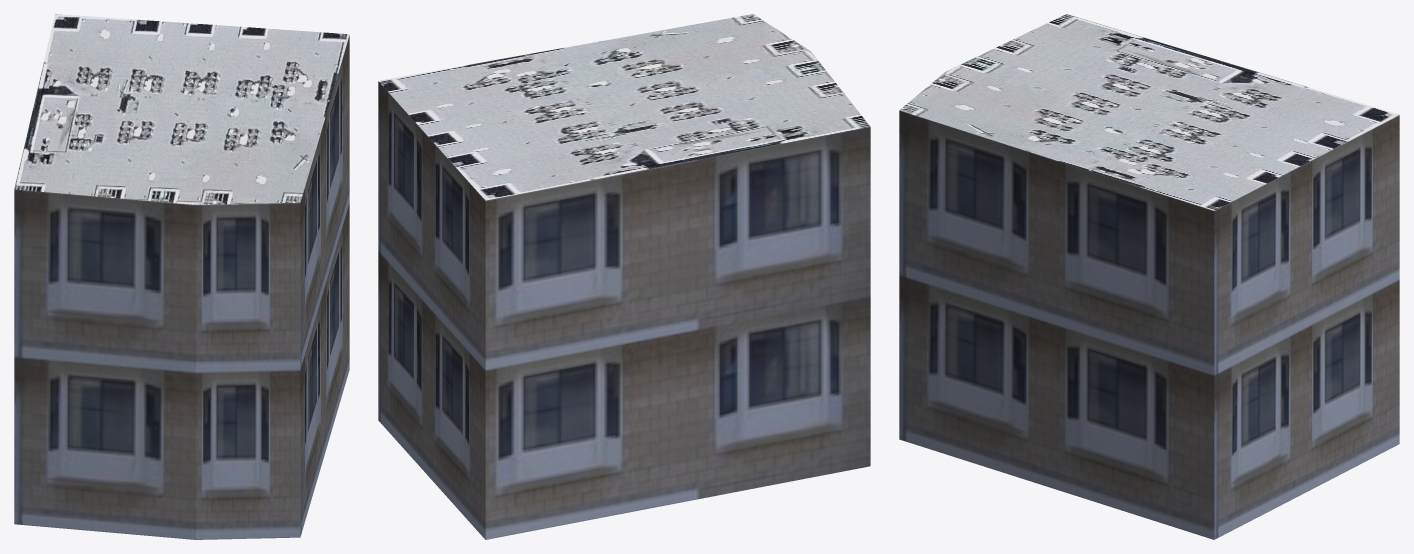
The model's file is ResTex__2694.fbx.
3 views of the same model, side by side, from view 1: azimuth 30°, elevation 25°; view 2: azimuth 150°, elevation 25°; view 3: azimuth 270°, elevation 25° (orthographic). The views are drawn at different scales.
Parts seen in each view (by area): view 1: CityEngineMaterial_3_m, CityEngineMaterial_4_m; view 2: CityEngineMaterial_3_m, CityEngineMaterial_4_m; view 3: CityEngineMaterial_3_m, CityEngineMaterial_4_m.
Part boxes in pixels (x1,y1,x2,y2): CityEngineMaterial_3_m: (14, 35, 349, 539); CityEngineMaterial_4_m: (14, 14, 349, 204); CityEngineMaterial_3_m: (378, 81, 870, 539); CityEngineMaterial_4_m: (378, 14, 870, 200); CityEngineMaterial_3_m: (899, 110, 1399, 539); CityEngineMaterial_4_m: (899, 14, 1399, 210).
Bounding box in the file's own units: 7.7 × 6 × 8.27.
2 materials, 2 textured.
